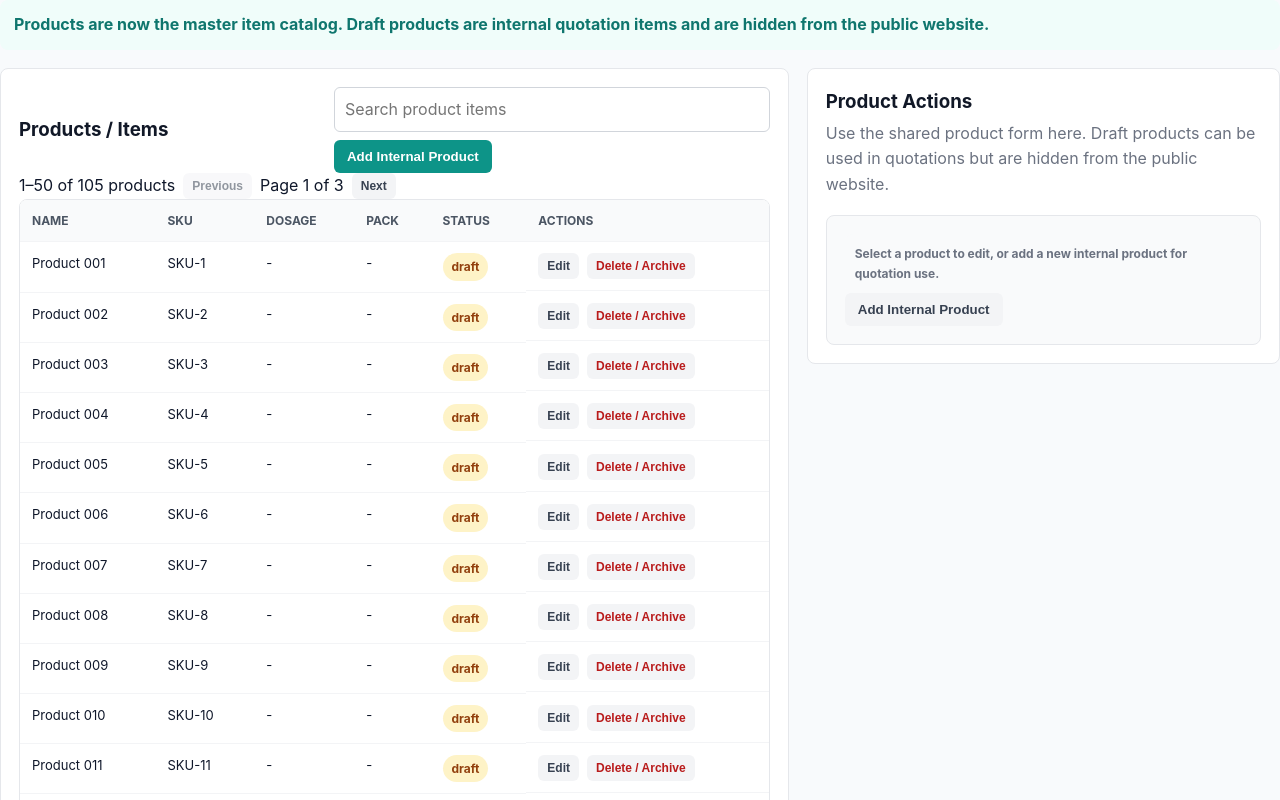
Test: bounds catalogue rendering while keeping every product reachable
Expected: the text "1–50 of 105 products" is shown, [19,173,175,199]
Expected: the text "Product 051" is not shown
Click the button "Next" at (374, 186), box [352,173,396,199]
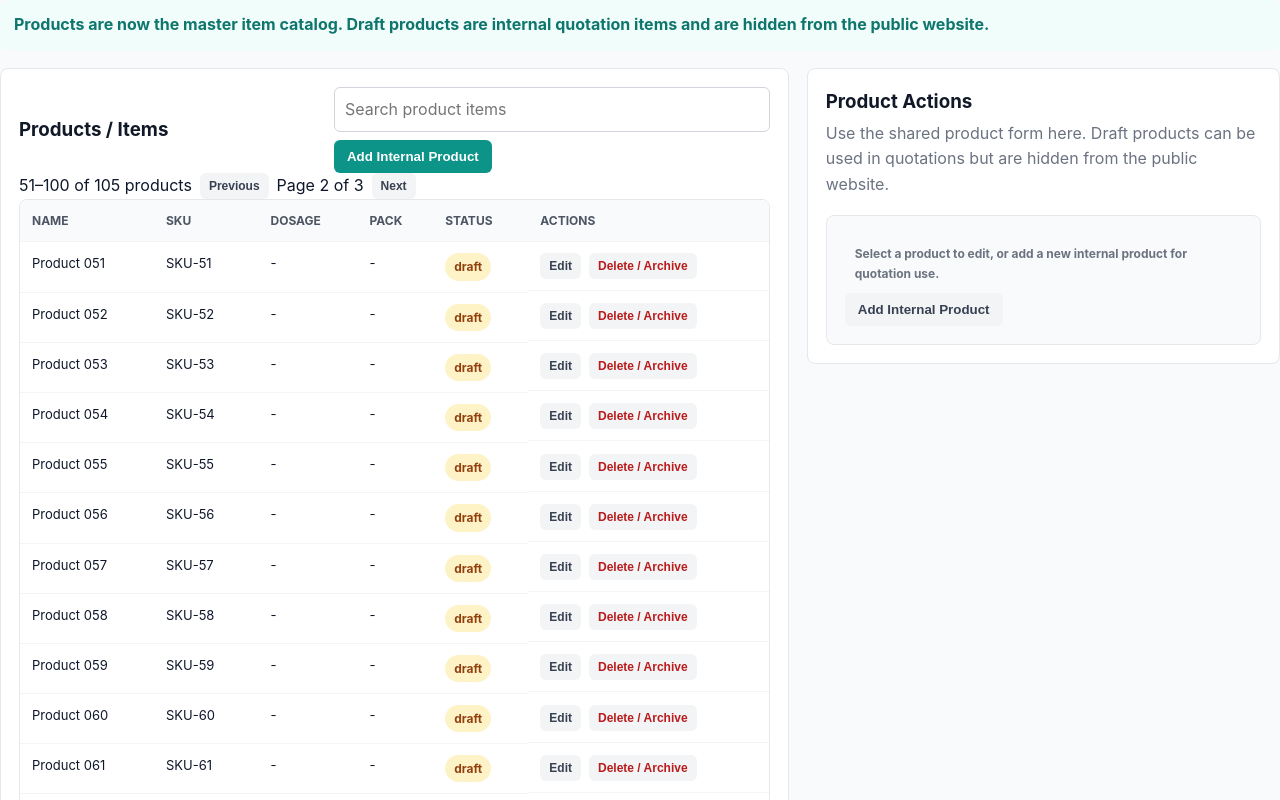
Now the text "51–100 of 105 products" is shown, box [19,173,192,199]
Click the button "Next" at (394, 186), box [372,173,416,199]
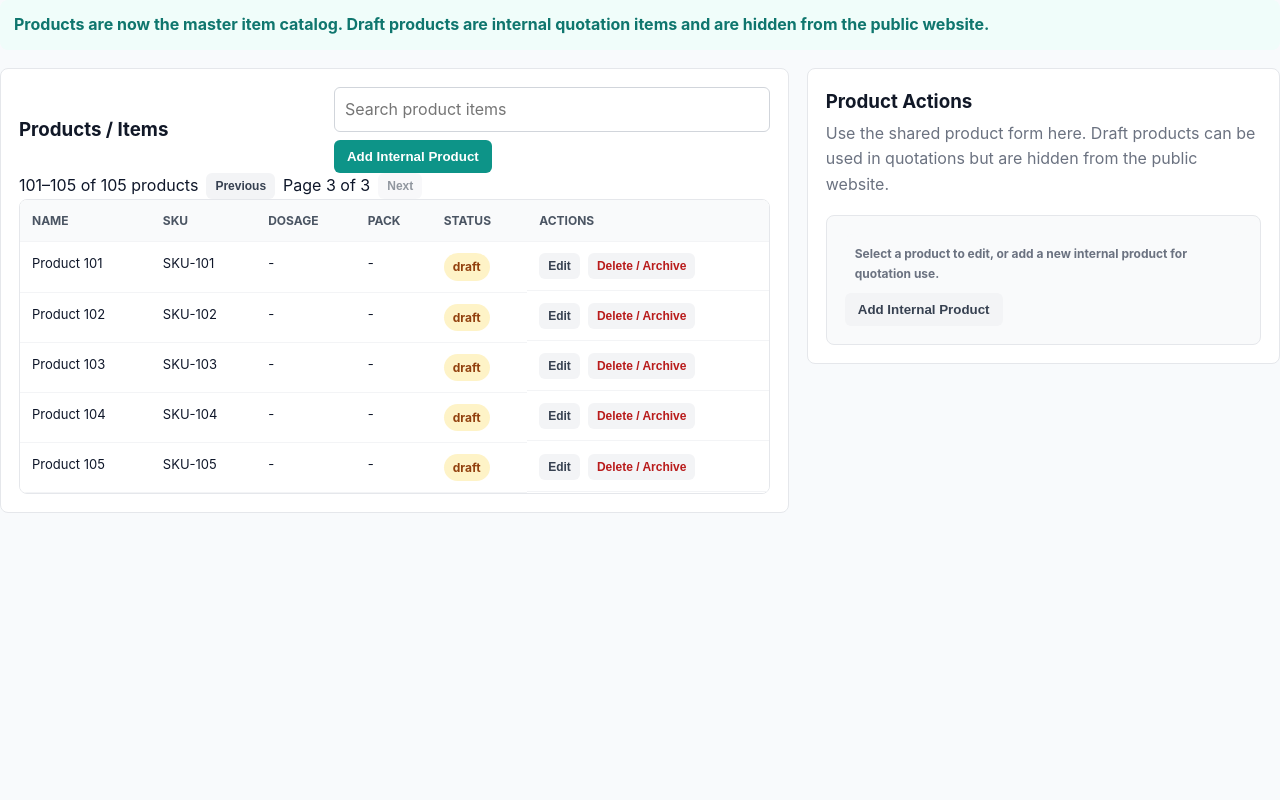
Now the text "101–105 of 105 products" is shown, box [19,173,198,199]
Now the number of rows is 6, box [20,200,769,242]; [20,242,769,292]; [20,292,769,342]; [20,342,769,392]; [20,392,769,443]; [20,443,769,493]
Now the button "Next" is disabled, box [378,173,422,199]
Click the text "Product 105" at (85, 468), box [20,443,151,493]
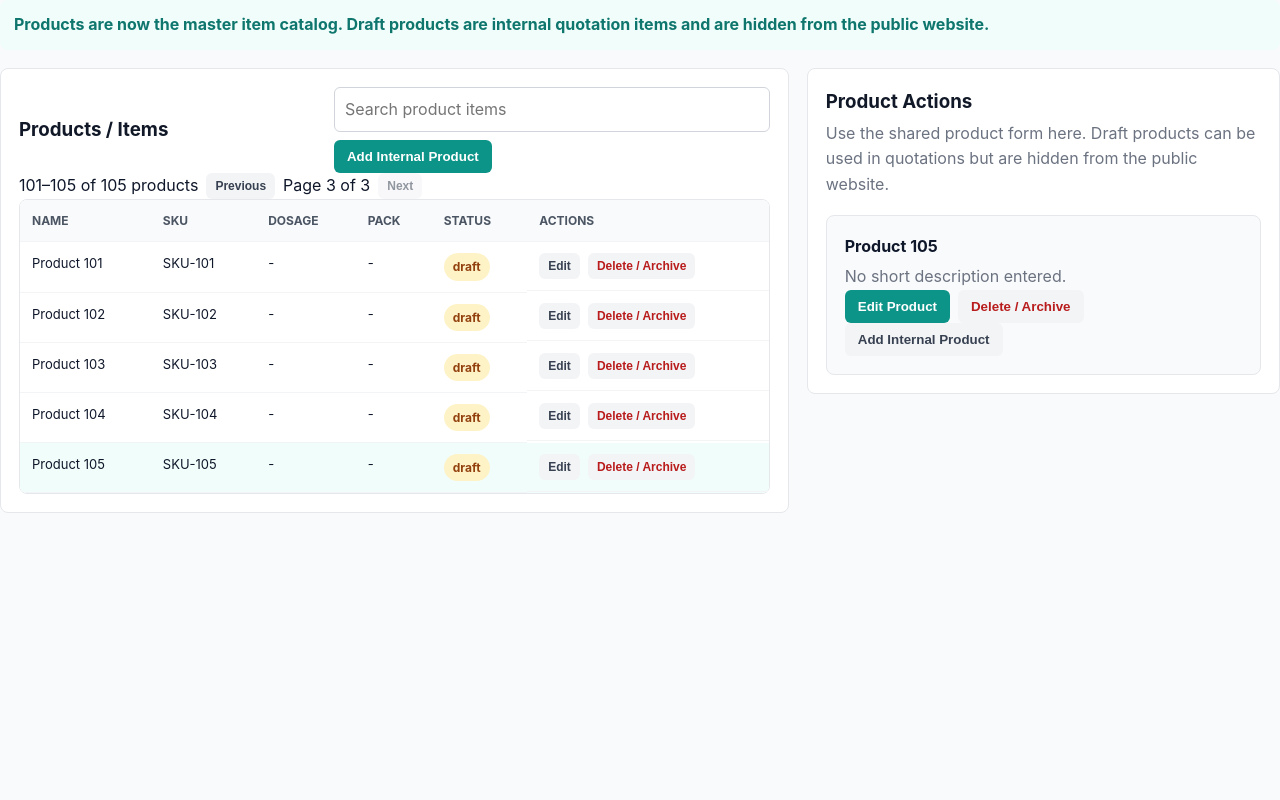
Now the heading "Product 105" is shown, box [845,236,938,256]
Click the button "Previous" at (241, 186), box [206,173,275,199]
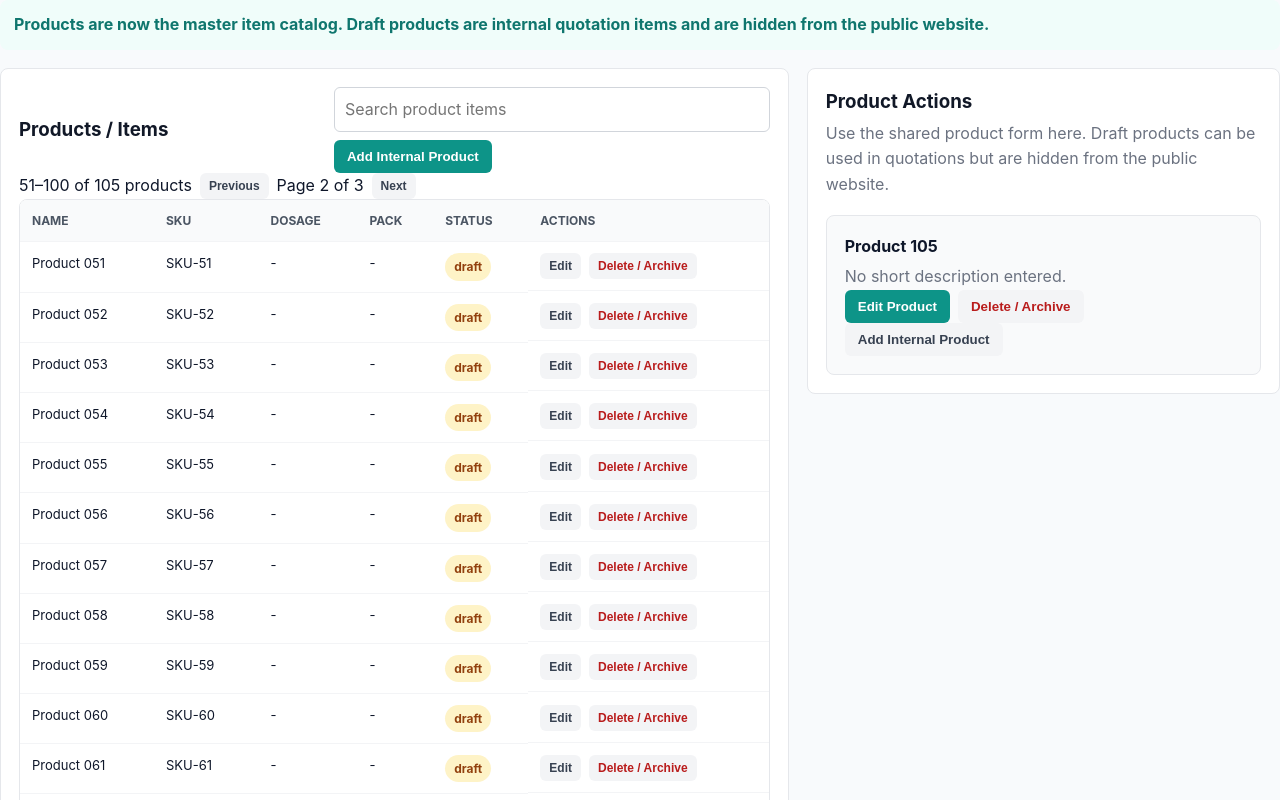
Now the text "51–100 of 105 products" is shown, box [19,173,192,199]
